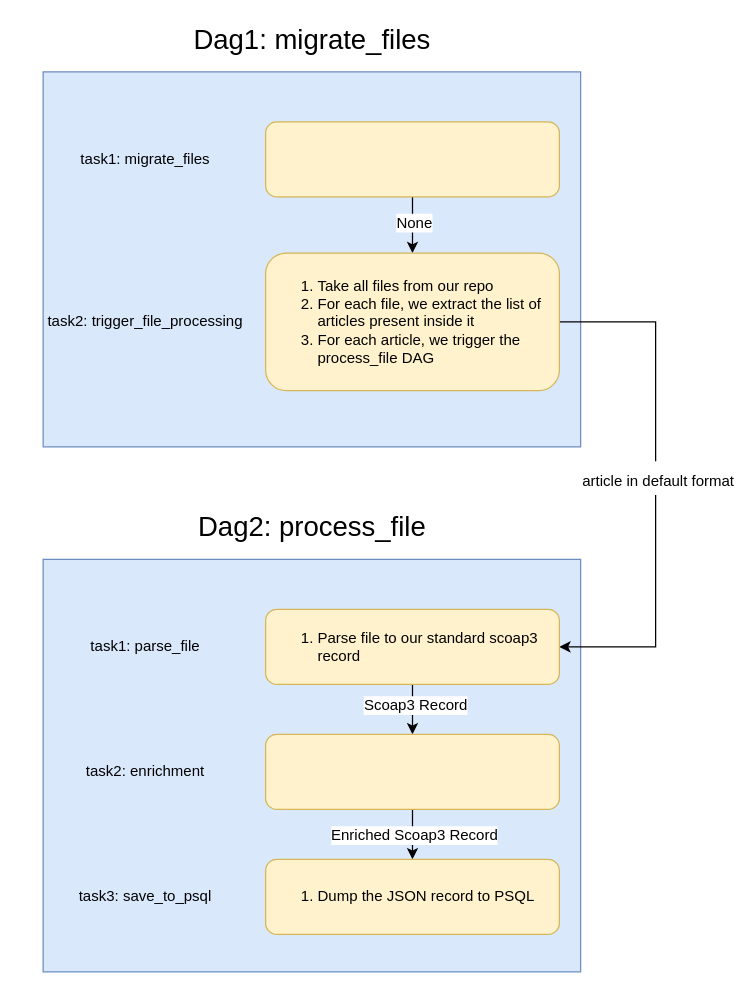
This 755x994 diagram has some shape labels left out. The box of each missing label's shape, as (x1, y1, x2, y2) in pixels:
Enrich the file with data from external providers: (264, 733, 559, 809)
Take all files from the publisher's repo Save all files to our repo (S3): (264, 121, 559, 197)
